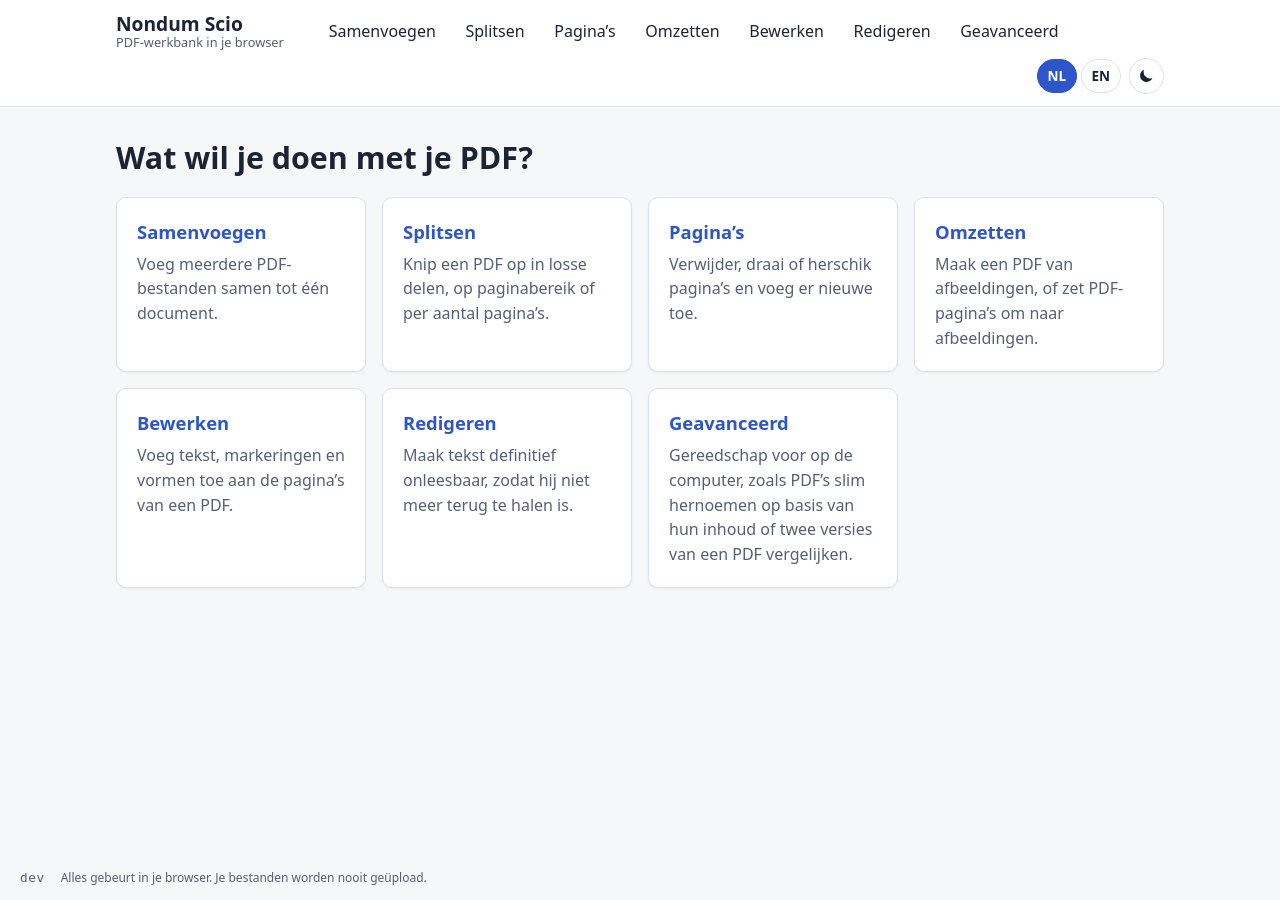
it: thema › heeft een vertaald label in beide talen
The width and height of the screenshot is (1280, 900).
Expected: the button named "Donker thema" is shown, 1129,58 -> 1164,94
Click the button with aria-label "English" at (1101, 76), box 1081,59 -> 1121,93
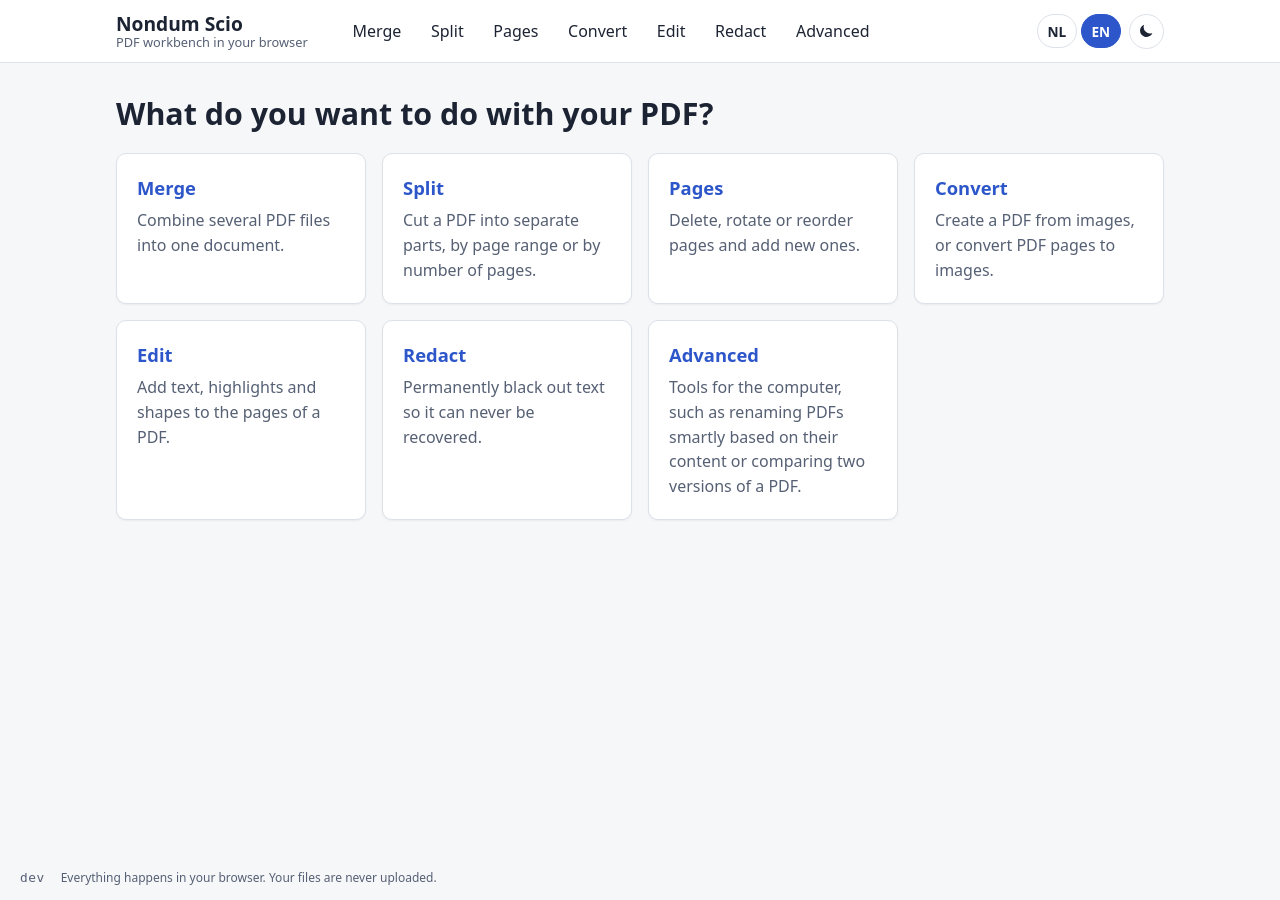
Result: the button named "Dark theme" is shown at 1129,14 -> 1164,49
